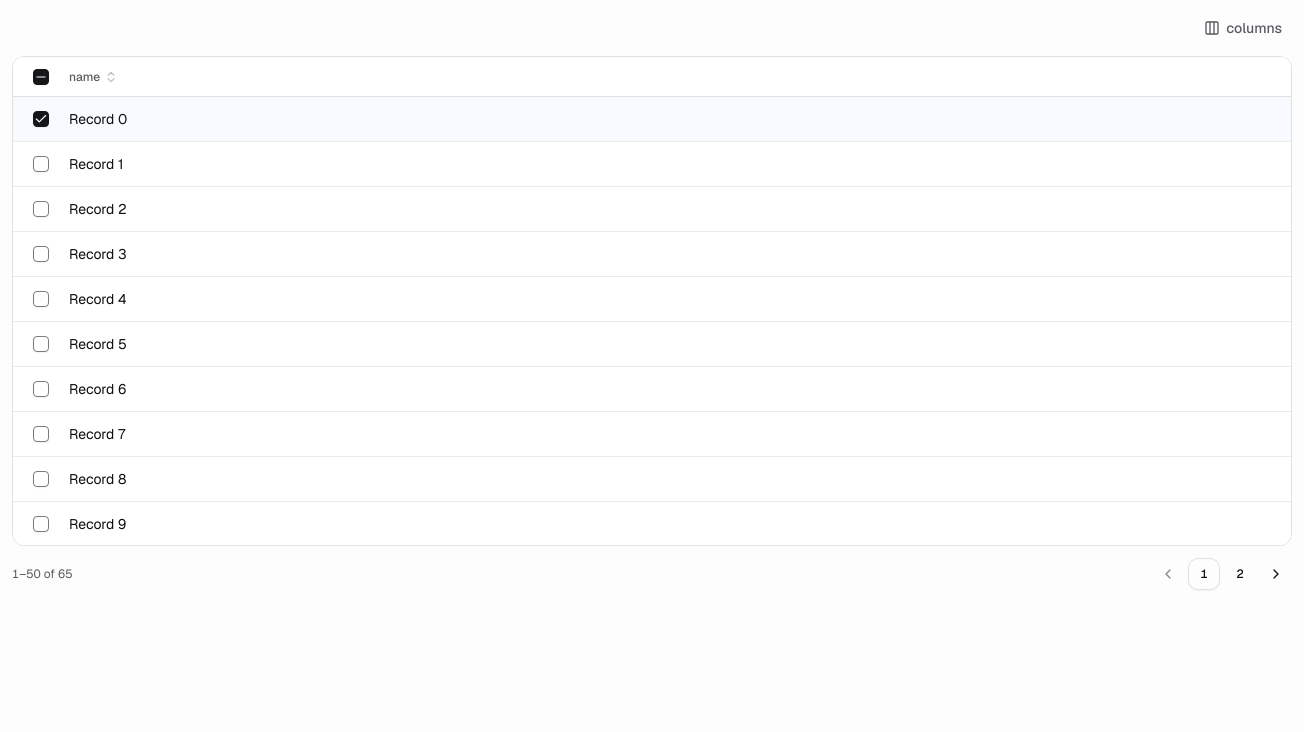
controlled DataTable selection › selects/deselects the current page, retains off-page ids and shows mixed state
What coordinates should you click on to do the following:
click the checkbox named "Select all rows on this page"
I would click on:
 (41, 76)
Its box is [33,68,49,84].
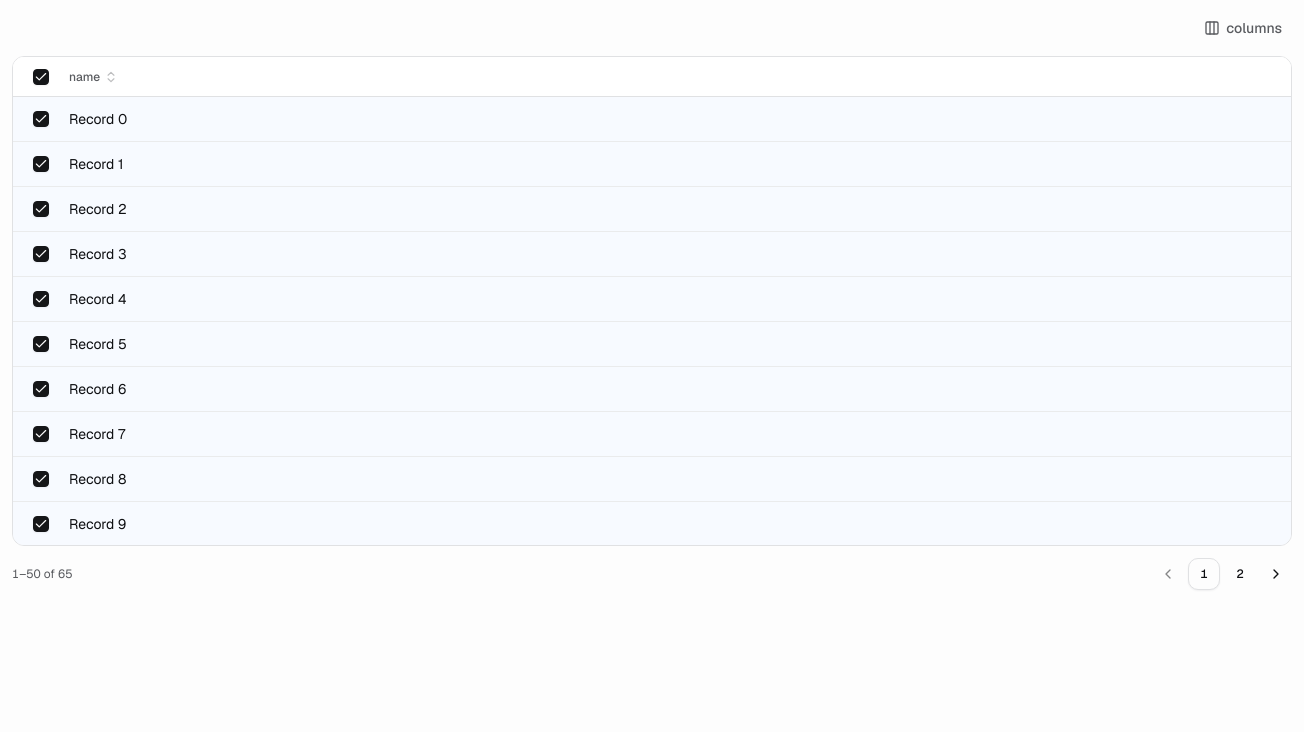
Result: the checkbox named "Select all rows on this page" is checked
What coordinates should you click on to do the following:
click the checkbox named "Select all rows on this page"
I would click on:
 (41, 76)
Its box is [33,68,49,84].
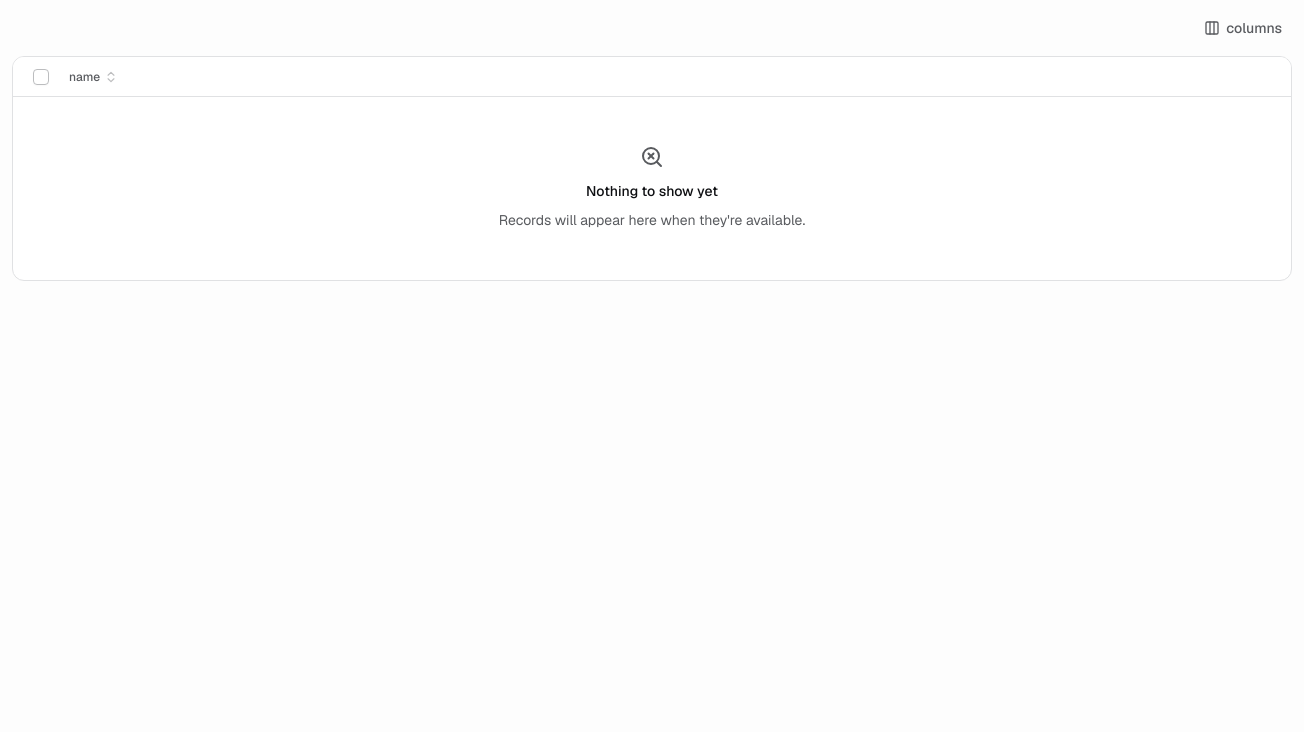
Result: the checkbox named "Select all rows on this page" is disabled at [33,68,49,84]
